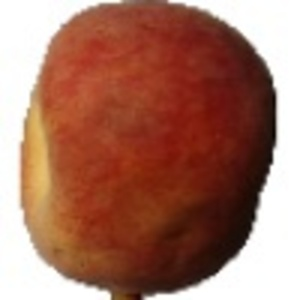pêssego: (1, 1, 279, 300)
